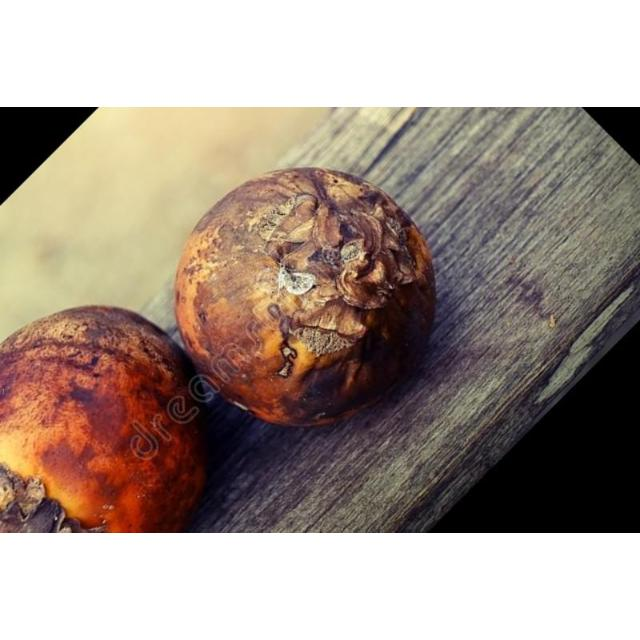damaged: (175, 168, 435, 426), (0, 306, 204, 533)
